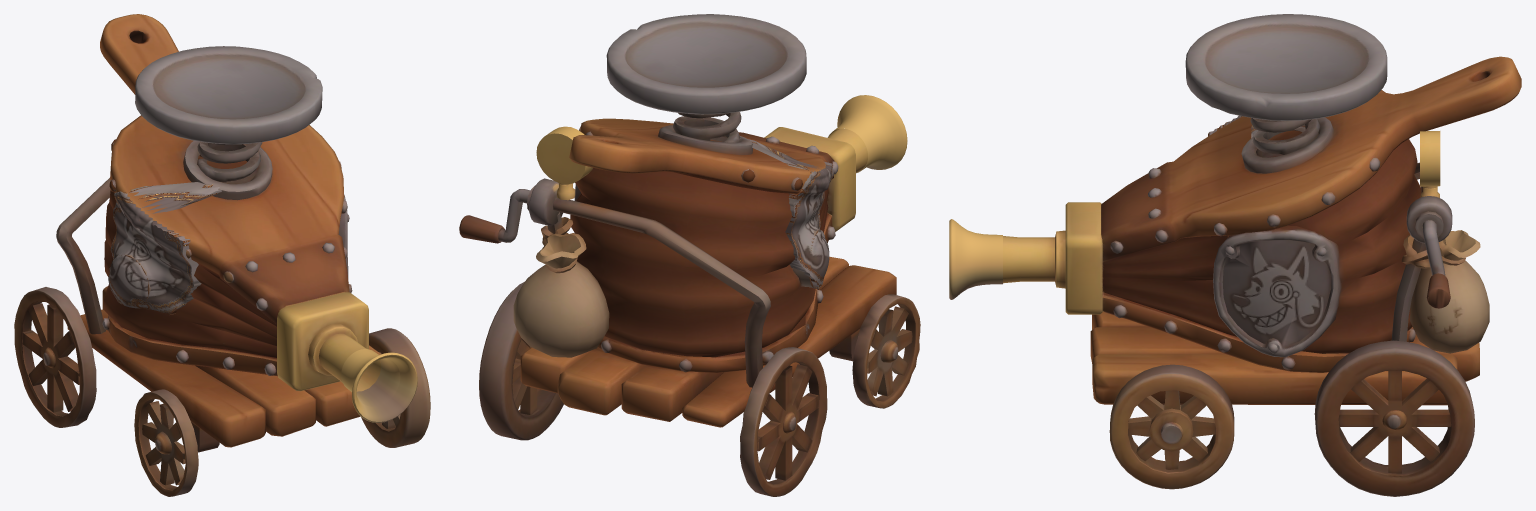
File: bellows_machine_v4.glb
3 renders of one model, left to right at view 1: azimuth 30°, elevation 25°; view 2: azimuth 150°, elevation 25°; view 3: azimuth 270°, elevation 25°, orthographic. The views are drawn at different scales.
Parts seen in each view (by area): view 1: bellows_machine_v2; view 2: bellows_machine_v2; view 3: bellows_machine_v2.
Part boxes in pixels (<box>): bellows_machine_v2: <box>14,14,430,496</box>; bellows_machine_v2: <box>459,14,920,496</box>; bellows_machine_v2: <box>949,14,1521,496</box>.
Size of the model in its own units: 2.77 by 3.2 by 4.41.
1 material, 1 textured.
